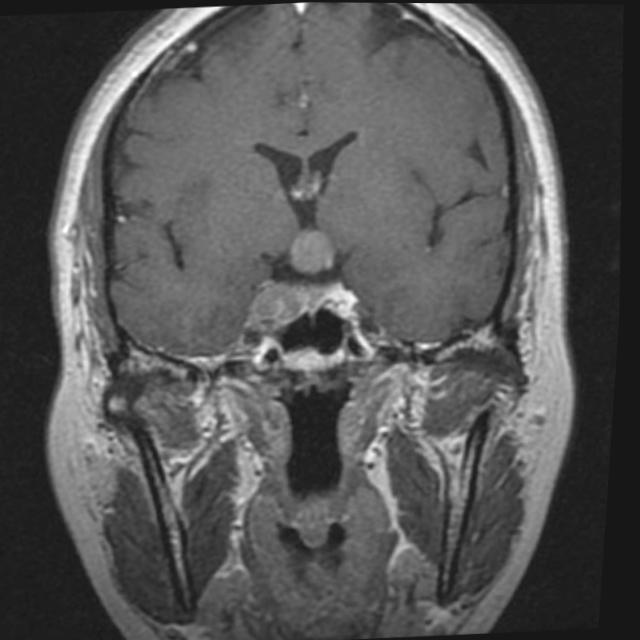Pituitary: (239, 275, 334, 332), (284, 228, 336, 278)
